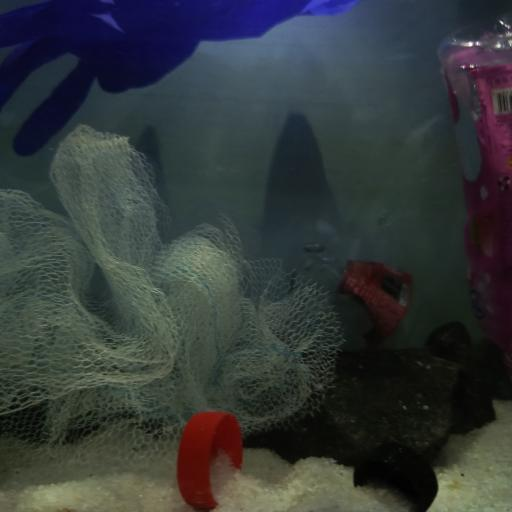bottle_cap: (178, 410, 245, 511), (355, 441, 438, 512)
glove: (0, 0, 355, 154)
net: (0, 121, 338, 464)
plastic_bottle: (434, 18, 512, 362), (296, 240, 440, 348)
